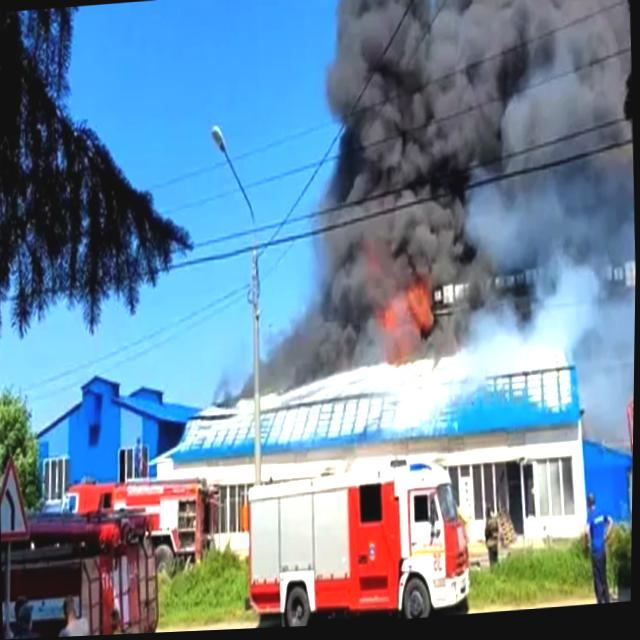Smoke: (200, 0, 640, 411)
